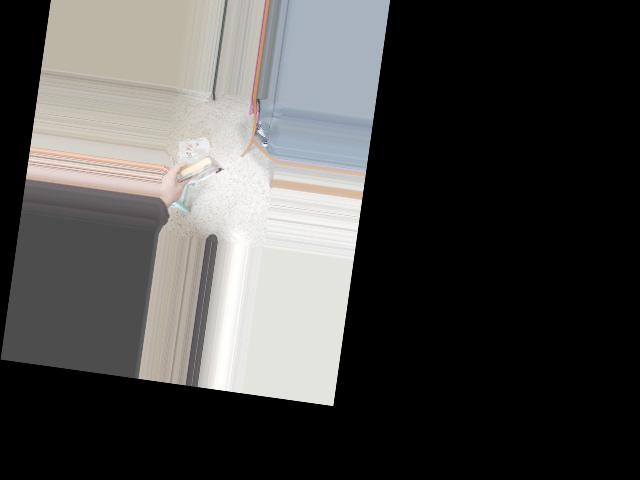cheese: (163, 148, 226, 192)
